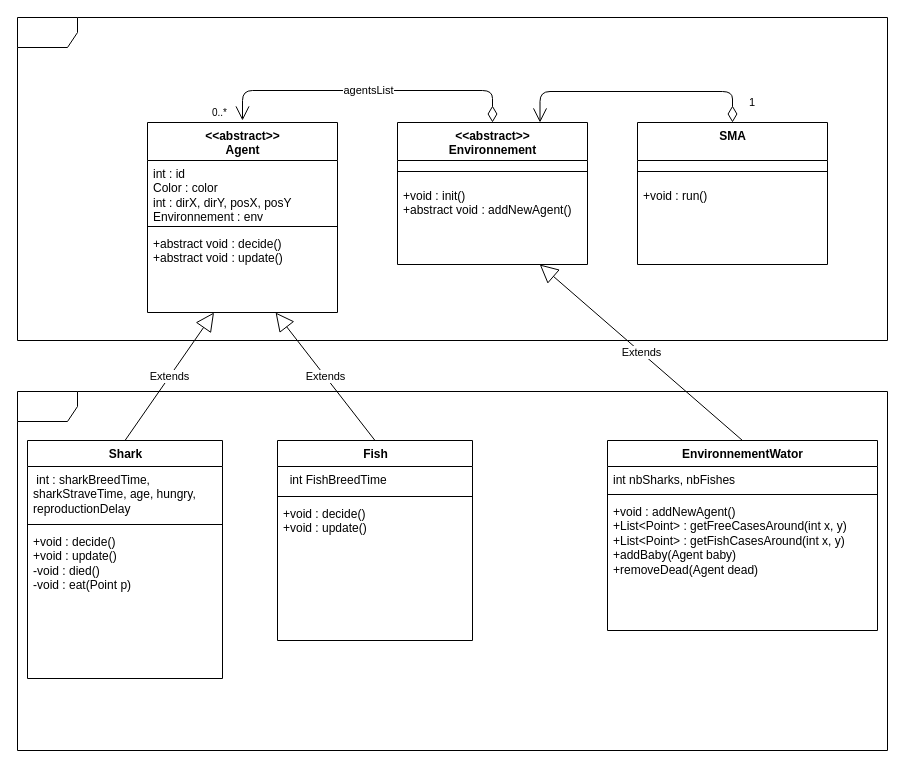
This 905x768 diagram has some shape labels left out. Each missing label, with the box of its shape:
core: (16, 16, 888, 340)
particules: (16, 390, 888, 750)
